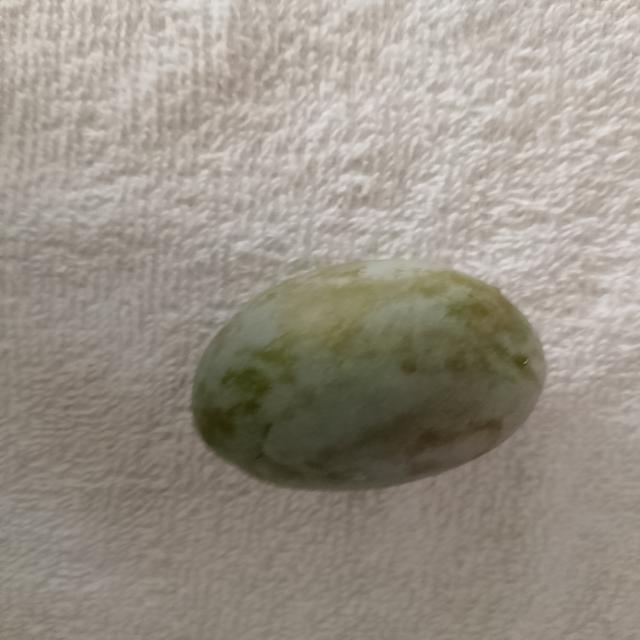mango: (186, 260, 551, 498)
